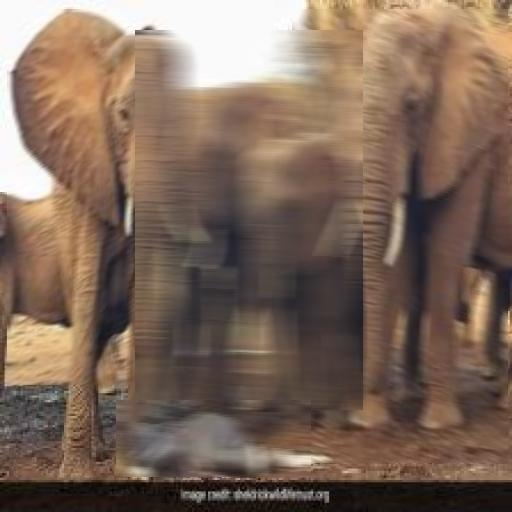Elephant: (292, 9, 508, 463), (135, 30, 363, 410), (7, 9, 188, 385), (116, 400, 311, 477)
